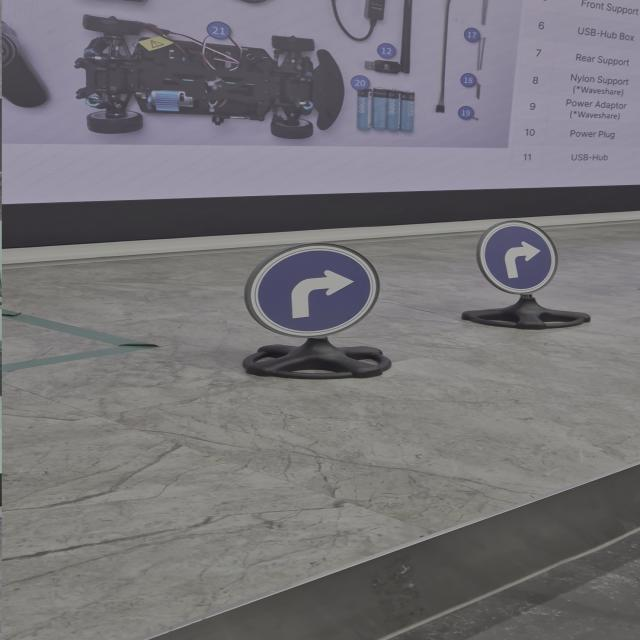right_dierection: (235, 245, 391, 334)
